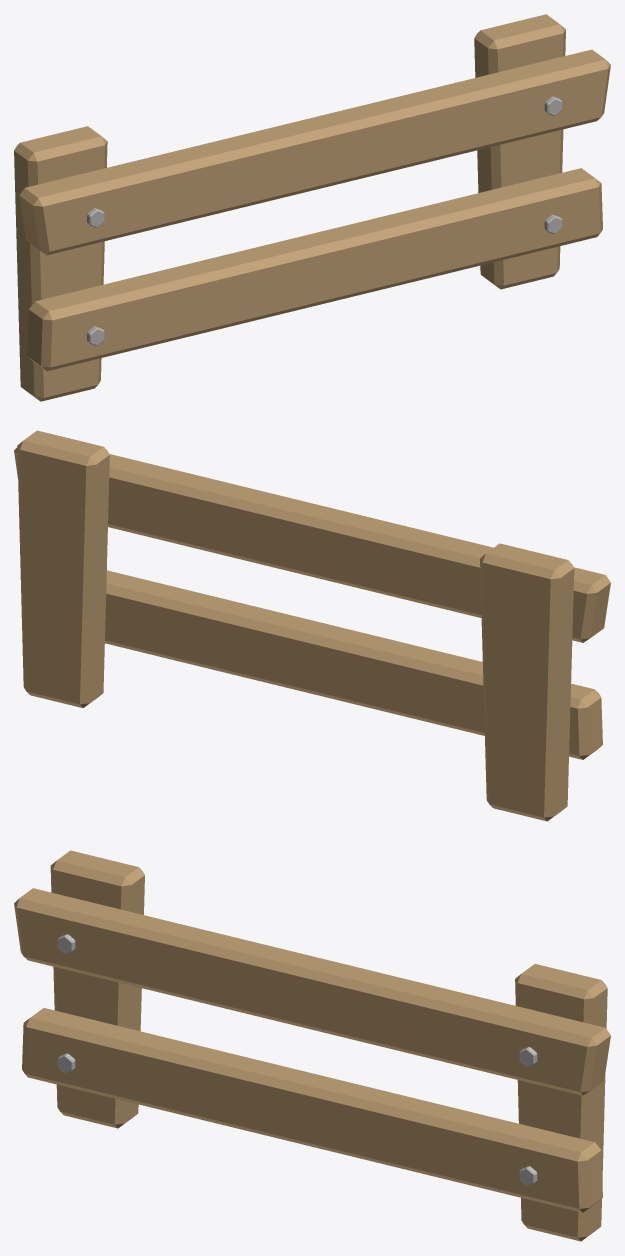
File: Fence_01.glb
3 renders of one model, top to bottom at view 1: azimuth 30°, elevation 25°; view 2: azimuth 150°, elevation 25°; view 3: azimuth 330°, elevation 25°, orthographic.
Parts seen in each view (by area): view 1: Fence_01; view 2: Fence_01; view 3: Fence_01.
Part boxes in pixels (left/top/right/bottom): Fence_01: left=14, top=14, right=610, bottom=401; Fence_01: left=14, top=430, right=610, bottom=821; Fence_01: left=14, top=850, right=610, bottom=1241.
Bounding box in the file's own units: 15.01 × 6.22 × 2.03.
